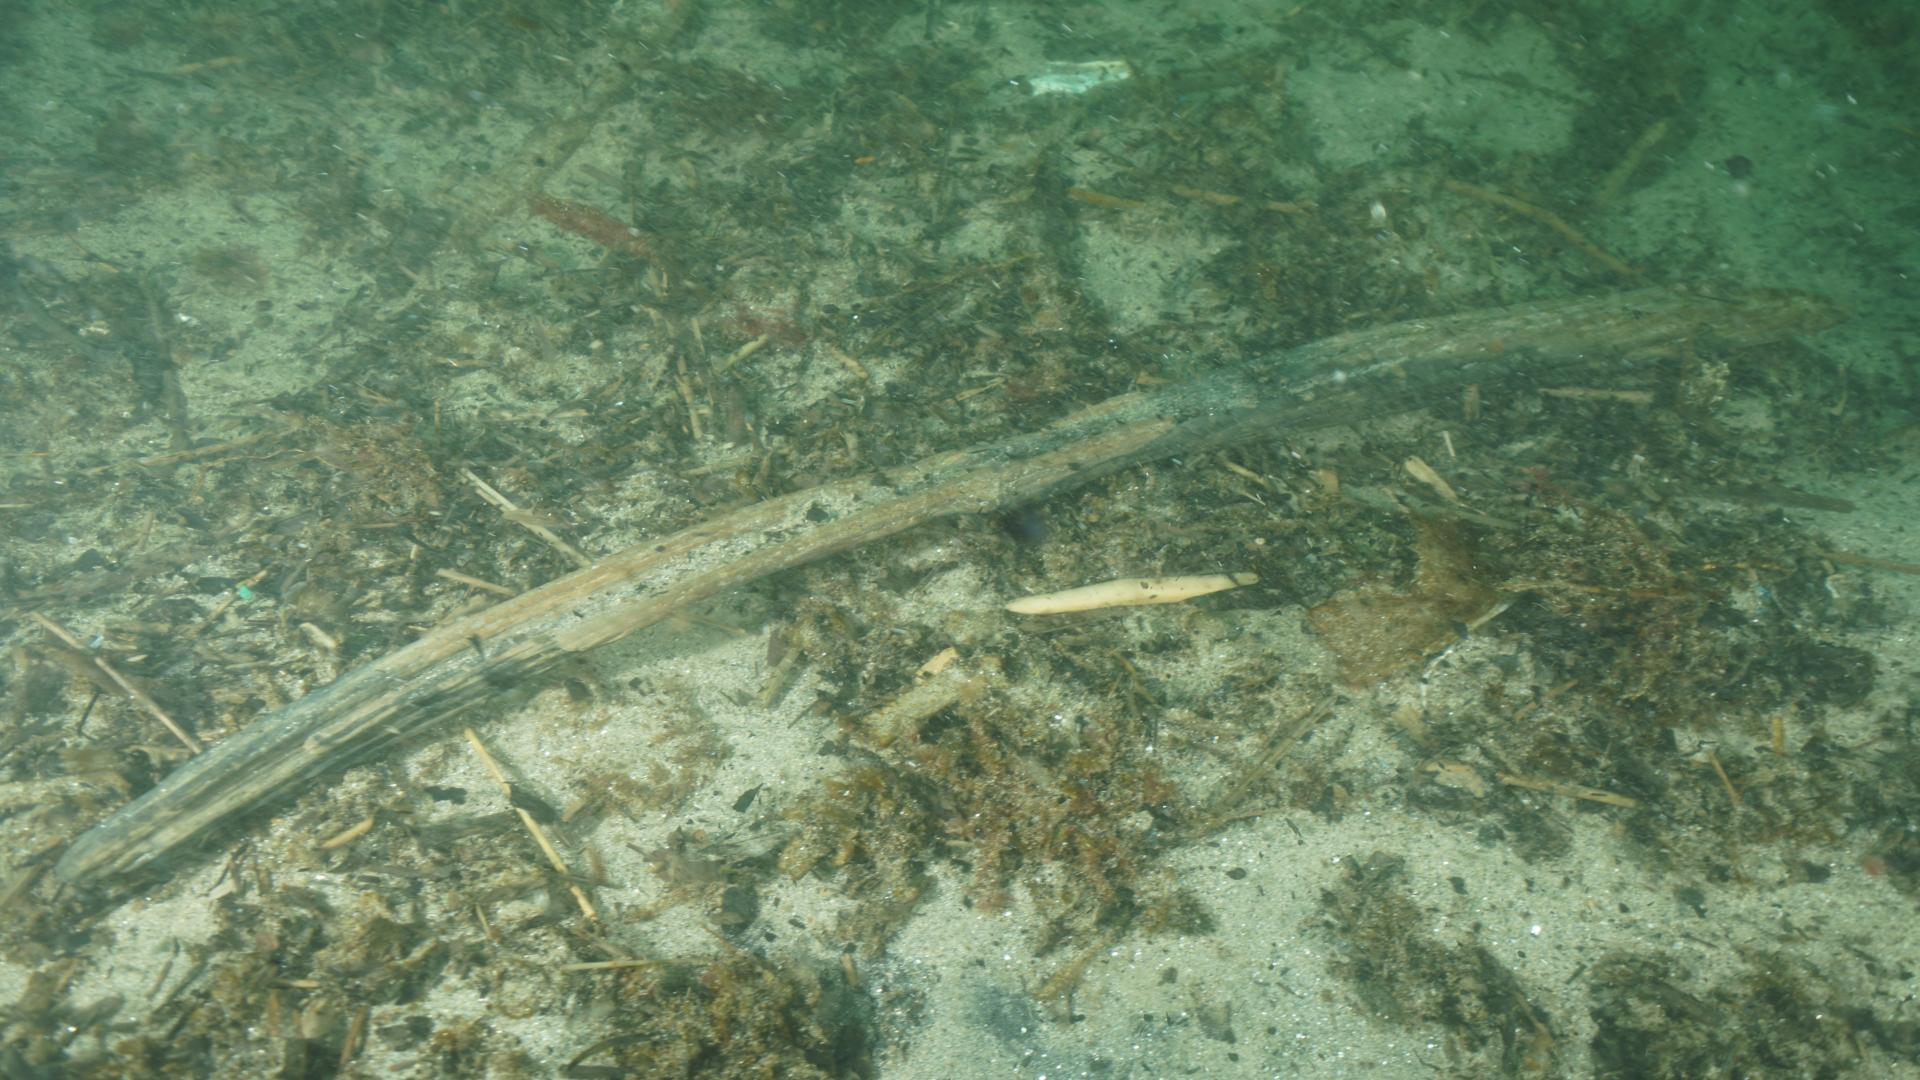wood: (29, 272, 1849, 932)
